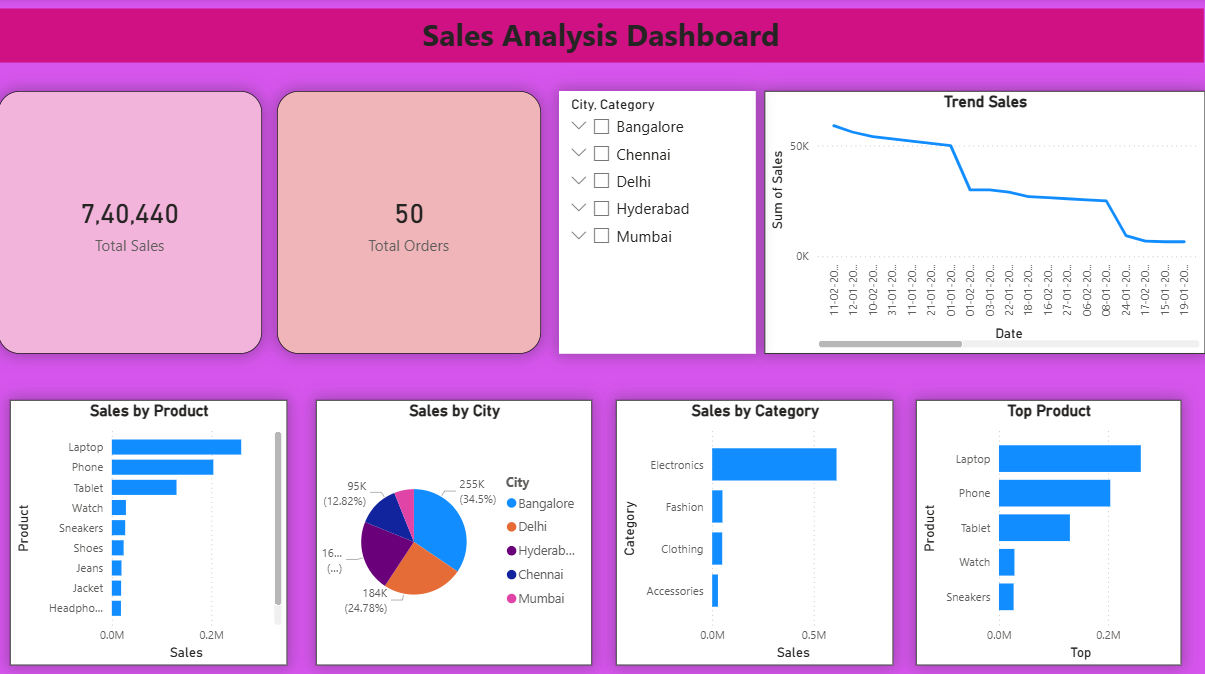

Layout of this report page (visuals, bound fields, positions):
{"tool":"powerbi","page":{"name":"Page 1","canvas":[1280,720],"ordinal":0},"visuals":[{"type":"card","fields":{"Values":["Sum(sales_project sales.Sales)"]},"box":[0,98.6,279.9,278.4],"z":0},{"type":"card","fields":{"Values":["CountNonNull(sales_project sales.Order_ID)"]},"box":[295.9,98.6,279.9,278.4],"z":1000},{"type":"pieChart","fields":{"Category":["sales_project sales.City"],"Y":["Sum(sales_project sales.Sales)"]},"box":[337.2,426.3,292.7,281.5],"z":2000},{"type":"barChart","fields":{"Y":["Sum(sales_project sales.Sales)"],"Category":["sales_project sales.Category"]},"box":[655.3,426.3,294.3,281.5],"z":3000},{"type":"barChart","fields":{"Y":["Sum(sales_project sales.Sales)"],"Category":["sales_project sales.Product"]},"box":[12.7,426.3,294.3,281.5],"z":4000},{"type":"lineChart","title":"Trend Sales","fields":{"Y":["Sum(sales_project sales.Sales)","select"],"Category":["sales_project sales.Date"]},"box":[812.8,98.6,467.6,278.4],"z":5000},{"type":"barChart","title":"Top Product","fields":{"Category":["sales_project sales.Product"],"Y":["Sum(sales_project sales.Sales)"]},"box":[973.5,426.3,281.5,281.5],"z":6000},{"type":"textbox","box":[0,11.1,1278.9,57.3],"z":7000},{"type":"slicer","fields":{"Values":["sales_project sales.City","sales_project sales.Category"]},"box":[594.9,98.6,208.4,278.4],"z":7001}]}

Visuals, with their boxes in screenshot pixels (x1, y1, x2, y2), scaled from the page's 1280x720 canvas onto the 1205x674 screenshot:
card - Sum(sales_project sales.Sales): 0 92 263 353
card - CountNonNull(sales_project sales.Order_ID): 279 92 542 353
pieChart - sales_project sales.City x Sum(sales_project sales.Sales): 317 399 593 663
barChart - Sum(sales_project sales.Sales) x sales_project sales.Category: 617 399 894 663
barChart - Sum(sales_project sales.Sales) x sales_project sales.Product: 12 399 289 663
"Trend Sales" lineChart: 765 92 1204 353
"Top Product" barChart: 916 399 1181 663
textbox: 0 10 1204 64
slicer - sales_project sales.City x sales_project sales.Category: 560 92 756 353
